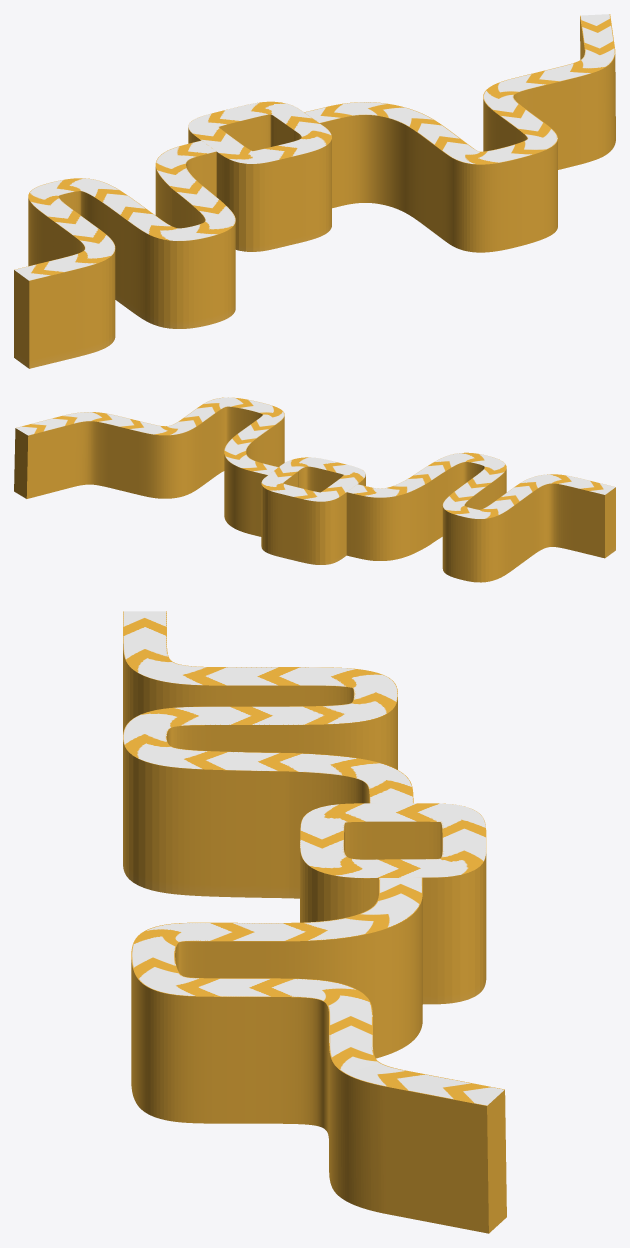
File: Zemin.fbx
3 renders of one model, top to bottom at view 1: azimuth 30°, elevation 25°; view 2: azimuth 150°, elevation 25°; view 3: azimuth 270°, elevation 25°, orthographic. The views are drawn at different scales.
Visible parts, largest first — view 1: Cube, Cube.002, Cube.001; view 2: Cube.002, Cube, Cube.001; view 3: Cube, Cube.002, Cube.001.
Boxes of the visible parts, x1,y1,x2,y2 form: Cube: [304, 14, 615, 252]; Cube.002: [14, 140, 235, 368]; Cube.001: [188, 101, 331, 251]; Cube.002: [346, 452, 615, 582]; Cube: [14, 397, 284, 536]; Cube.001: [261, 457, 365, 564]; Cube: [131, 877, 506, 1233]; Cube.002: [123, 611, 413, 898]; Cube.001: [300, 803, 486, 1004].
Size of the model in its own units: 5384 by 652 by 1754.
